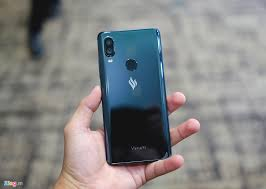vsmart: (93, 24, 175, 165)
